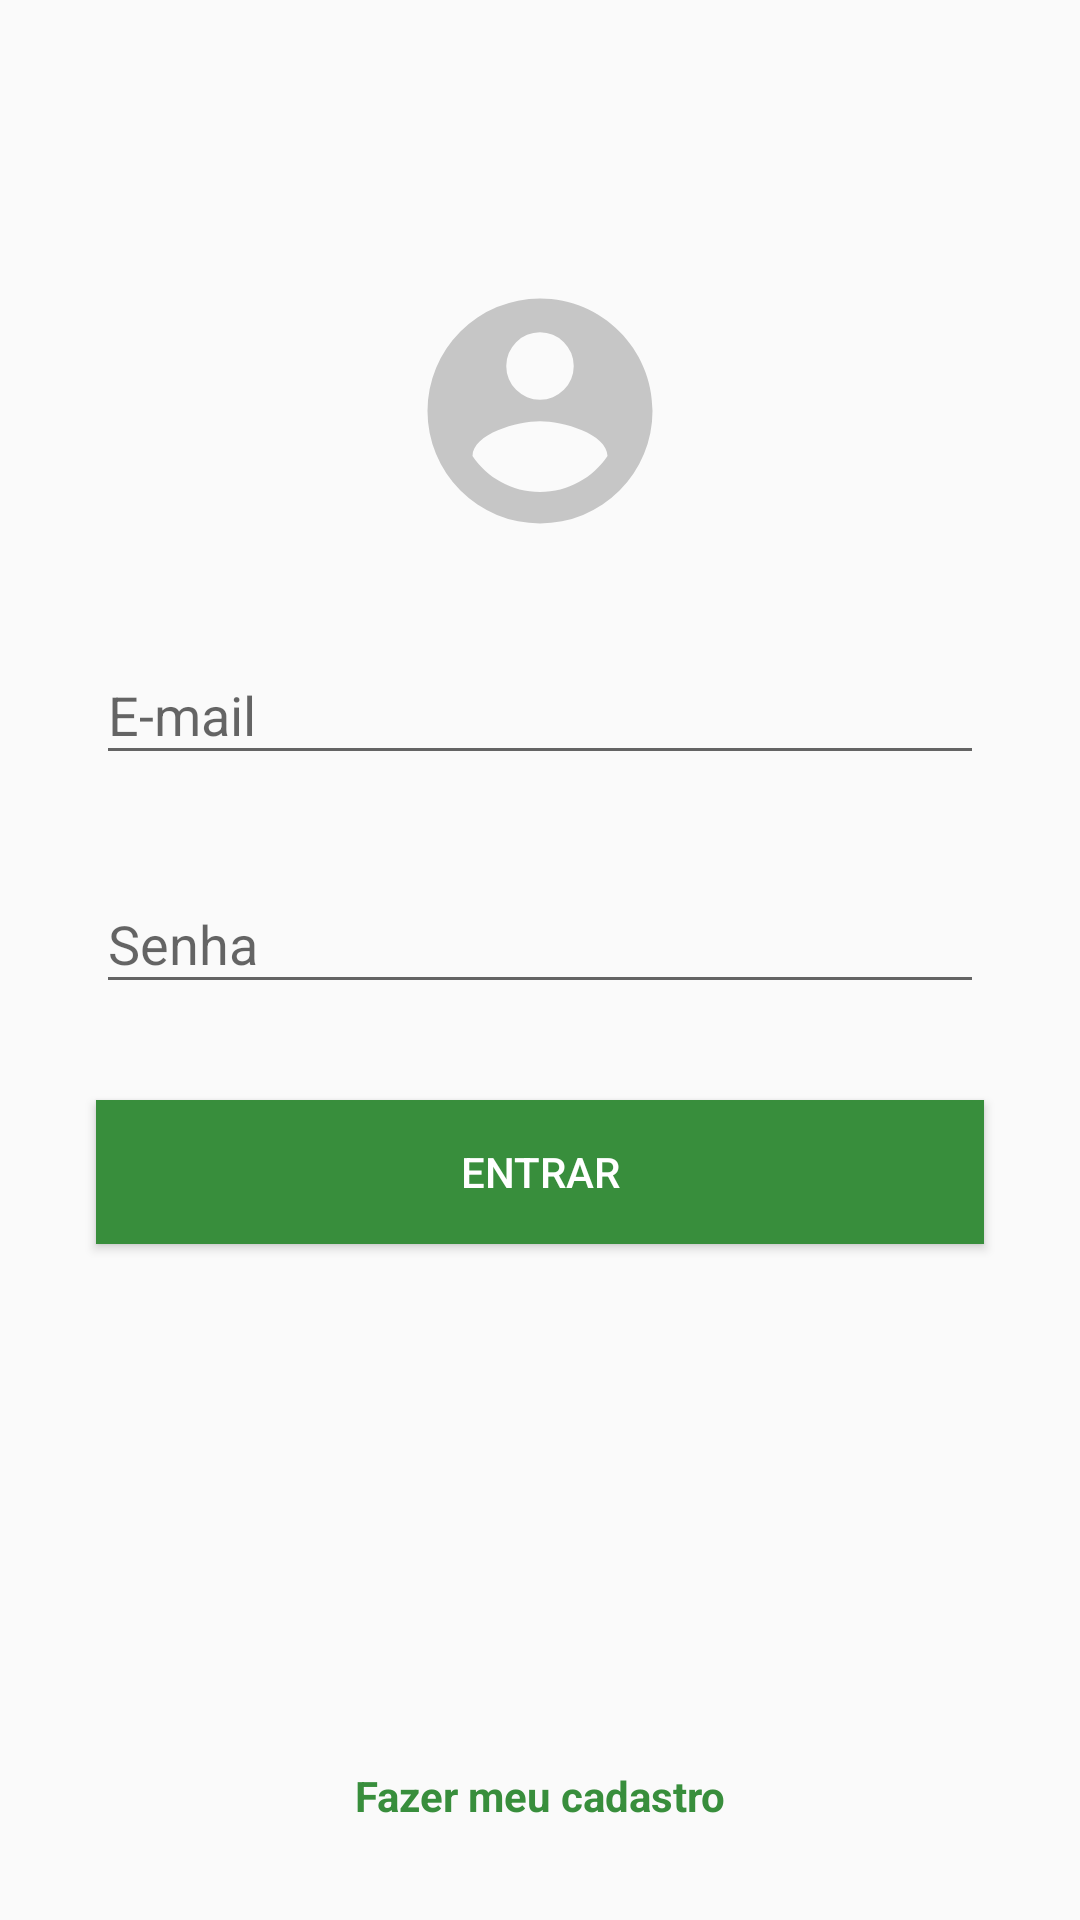

Point at icon controls on the screen. Image size 1080×1920, points as (x=x, y=y).
account circle: (x=540, y=411)
